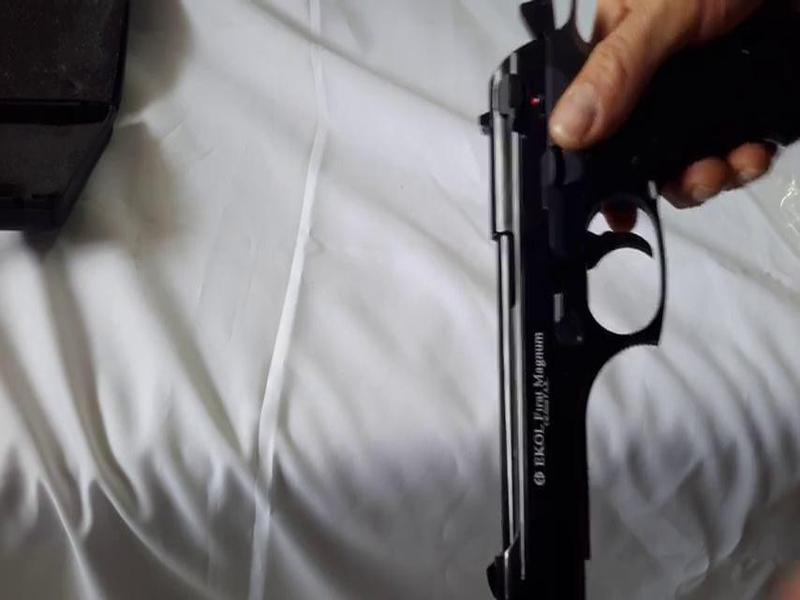Pistola: (441, 17, 714, 588)
